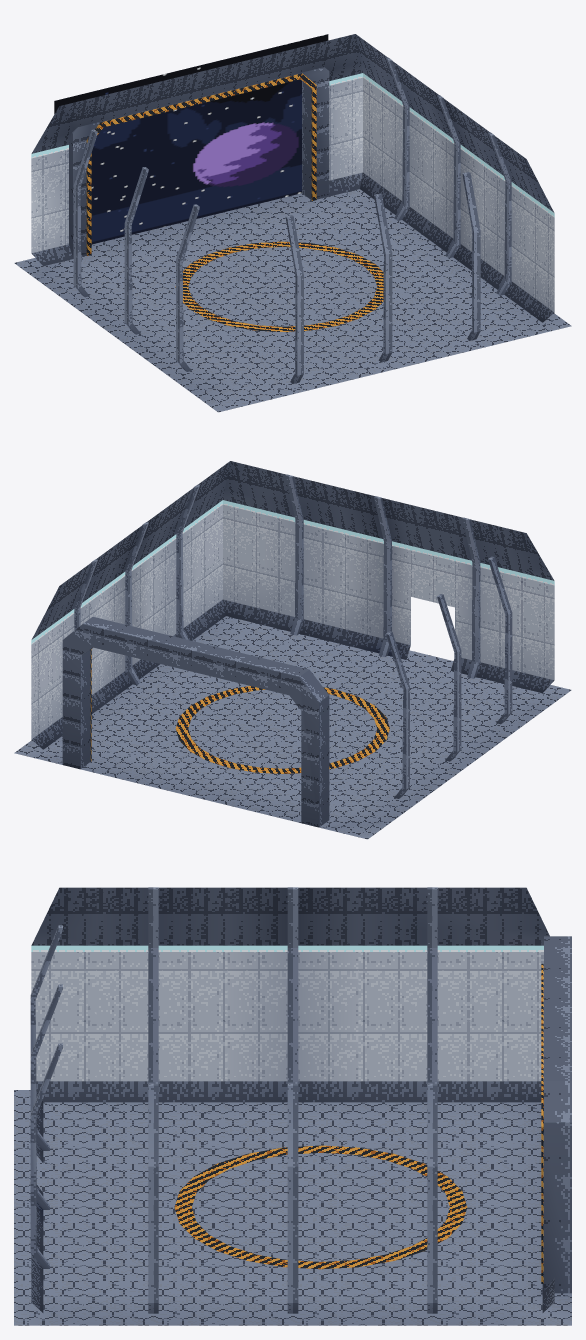
File: stn.hangar.glb
The picture shows the model from 3 angles, top to bottom: view 1: azimuth 30°, elevation 25°; view 2: azimuth 150°, elevation 25°; view 3: azimuth 270°, elevation 25°; orthographic projection. The views are drawn at different scales.
Visible parts, largest first — view 1: kit_shell_floor, kit_shell_walls, kit_card_space, kit_ribs, kit_mouth_frame, kit_shell_deck_ring, kit_mouth_lip; view 2: kit_shell_walls, kit_shell_floor, kit_mouth_frame, kit_ribs, kit_shell_deck_ring; view 3: kit_shell_floor, kit_shell_walls, kit_ribs, kit_mouth_frame, kit_shell_deck_ring, kit_mouth_lip.
Boxes of the visible parts, x1,y1,x2,y2 form: kit_shell_floor: (14, 189, 571, 412); kit_shell_walls: (31, 34, 554, 322); kit_card_space: (54, 34, 328, 244); kit_ribs: (73, 57, 511, 383); kit_mouth_frame: (69, 67, 329, 256); kit_shell_deck_ring: (175, 241, 383, 331); kit_mouth_lip: (86, 73, 316, 255); kit_shell_walls: (31, 461, 554, 749); kit_shell_floor: (14, 616, 571, 839); kit_mouth_frame: (62, 617, 329, 827); kit_ribs: (74, 474, 512, 798); kit_shell_deck_ring: (175, 686, 389, 773); kit_shell_floor: (14, 1090, 571, 1325); kit_shell_walls: (31, 887, 554, 1312); kit_ribs: (30, 887, 437, 1313); kit_mouth_frame: (544, 936, 571, 1293); kit_shell_deck_ring: (174, 1145, 467, 1269); kit_mouth_lip: (541, 963, 543, 1283).
Size of the model in its own units: 16 by 7.01 by 16.
8 materials, 8 textured.
